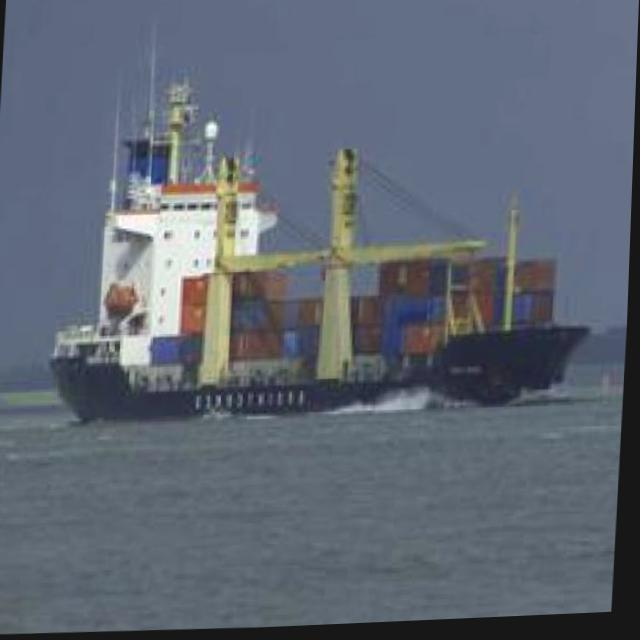ship2: (49, 22, 589, 427)
